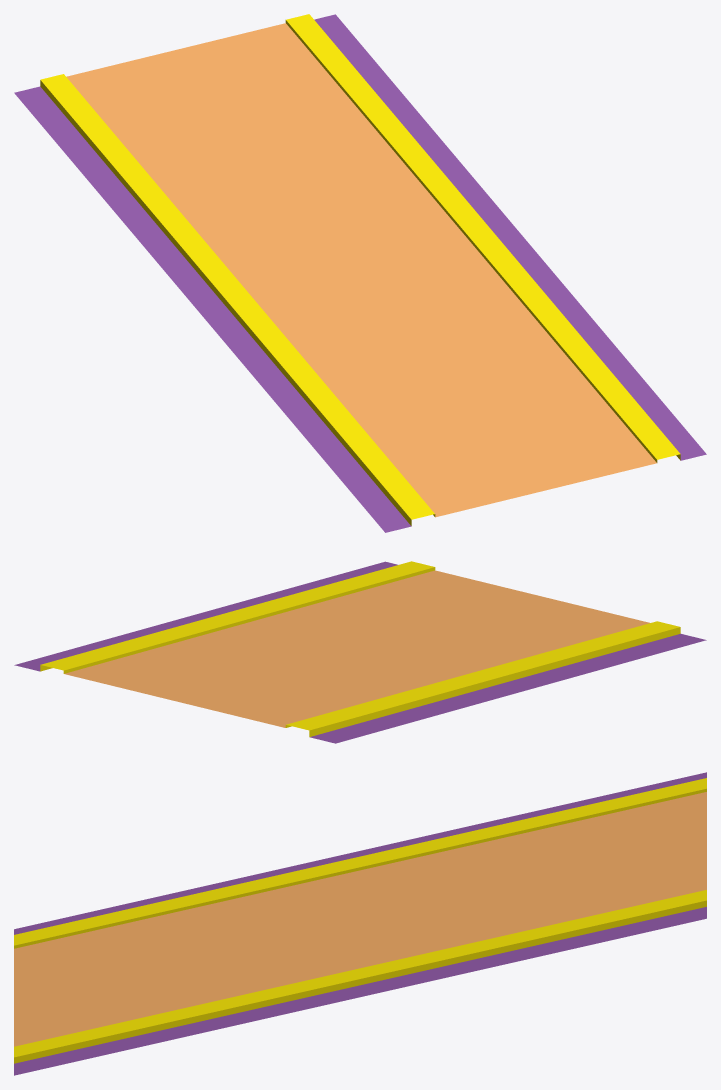
Rendered from roadRampLong.glb.
3 views of the same model, one above another, from view 1: azimuth 30°, elevation 25°; view 2: azimuth 150°, elevation 25°; view 3: azimuth 270°, elevation 25° (orthographic). The views are drawn at different scales.
Parts seen in each view (by area): view 1: roadRampLong(Clone); view 2: roadRampLong(Clone); view 3: roadRampLong(Clone).
Part boxes in pixels (x1,y1,x2,y2): roadRampLong(Clone): (14,14,706,532); roadRampLong(Clone): (14,561,706,743); roadRampLong(Clone): (14,772,706,1075).
Size of the model in its own units: 1 by 0.52 by 2.
